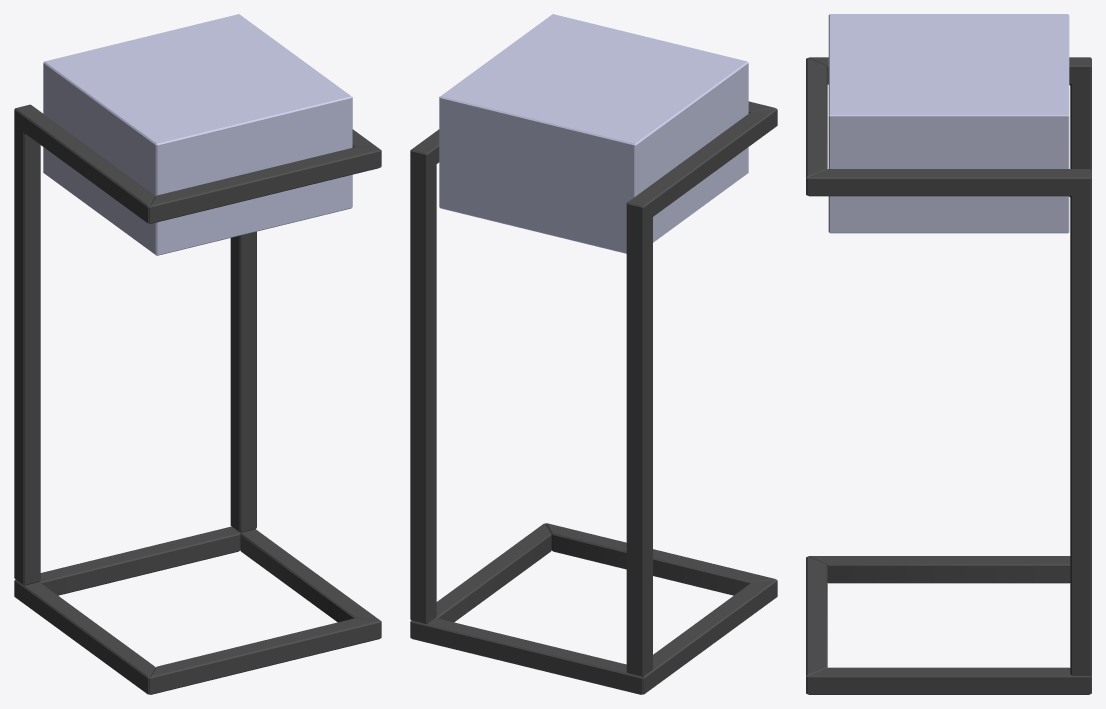
The model's file is SM_rack_5.fbx.
3 views of the same model, side by side, from view 1: azimuth 30°, elevation 25°; view 2: azimuth 150°, elevation 25°; view 3: azimuth 270°, elevation 25° (orthographic). The views are drawn at different scales.
Visible parts, largest first — view 1: SM_rack_5, SM_rack_box; view 2: SM_rack_box, SM_rack_5; view 3: SM_rack_box, SM_rack_5.
Part boxes in pixels (bbox=[...]): SM_rack_5: bbox=[14, 104, 381, 694]; SM_rack_box: bbox=[43, 14, 352, 255]; SM_rack_box: bbox=[439, 14, 748, 253]; SM_rack_5: bbox=[410, 101, 777, 694]; SM_rack_box: bbox=[828, 14, 1069, 233]; SM_rack_5: bbox=[806, 57, 1091, 694].
Size of the model in its own units: 40 by 88.17 by 40.
